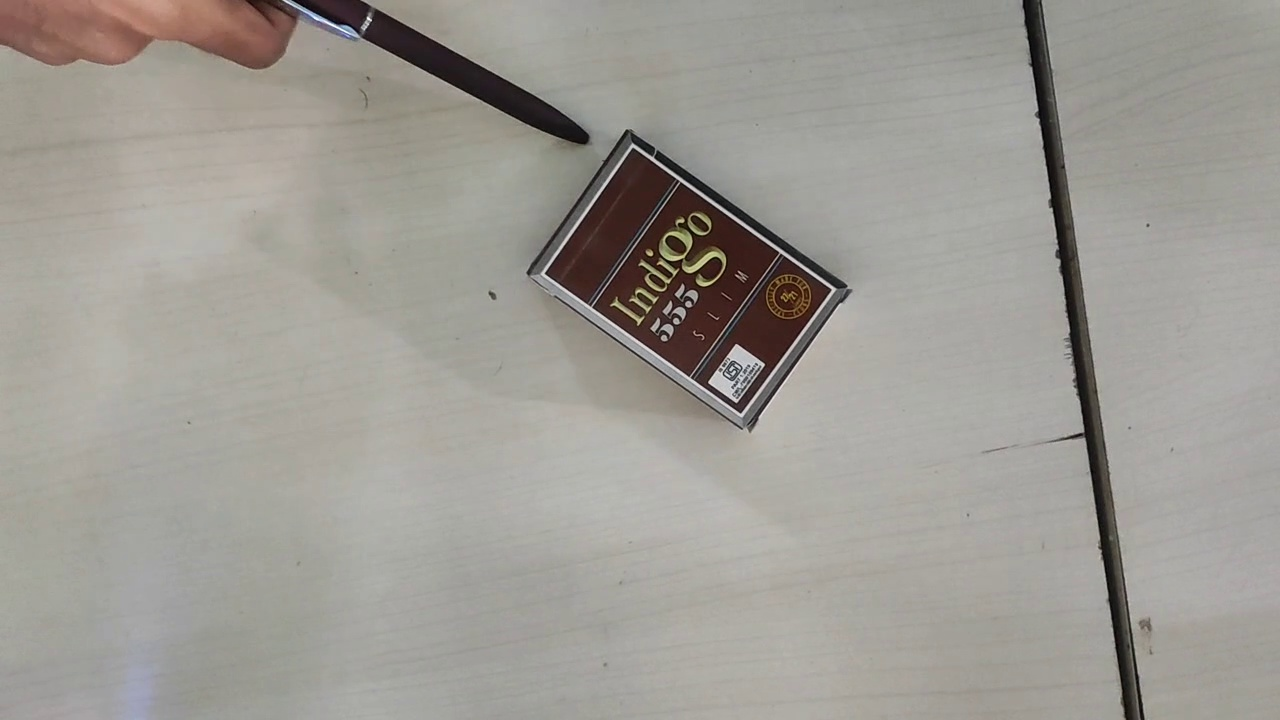BEX: (546, 139, 833, 414)
